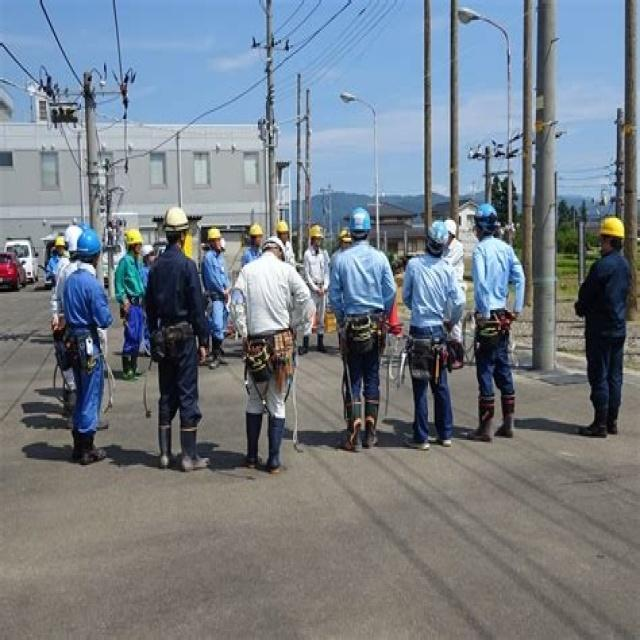helmet: (161, 272, 189, 335), (597, 286, 625, 346), (75, 304, 101, 364), (424, 291, 448, 344), (349, 275, 372, 329), (473, 272, 496, 323), (124, 301, 142, 343), (246, 293, 264, 332), (306, 296, 324, 335), (207, 301, 223, 340), (275, 292, 289, 328), (52, 311, 66, 344), (337, 304, 351, 335)
